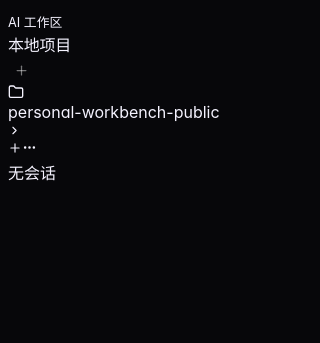
Scenario: ChatSidebar project actions › 项目菜单复用统一键盘导航
Click the button named "personal-workbench-public 更多操作" at (30, 148), box [22,140,37,155]
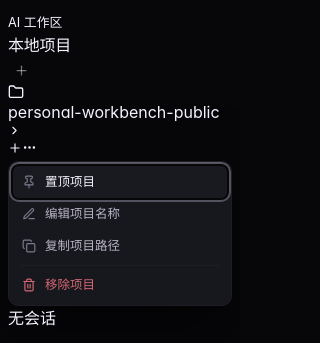
Result: the menu item "置顶项目" is shown
Press ArrowDown in the menu item "置顶项目", box [13,166,227,198]
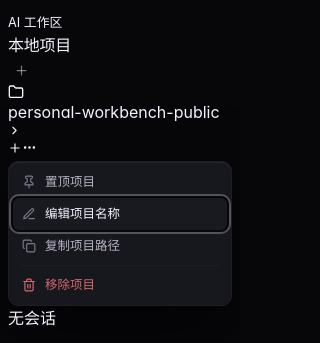
Result: the menu item "编辑项目名称" is shown
Press Escape in the menu item "编辑项目名称", box [13,198,227,230]
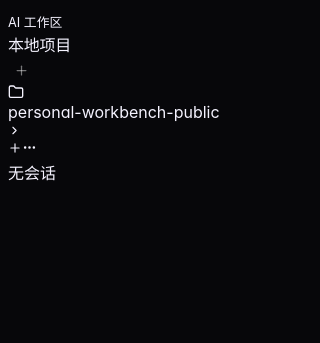
Result: the menu is gone
